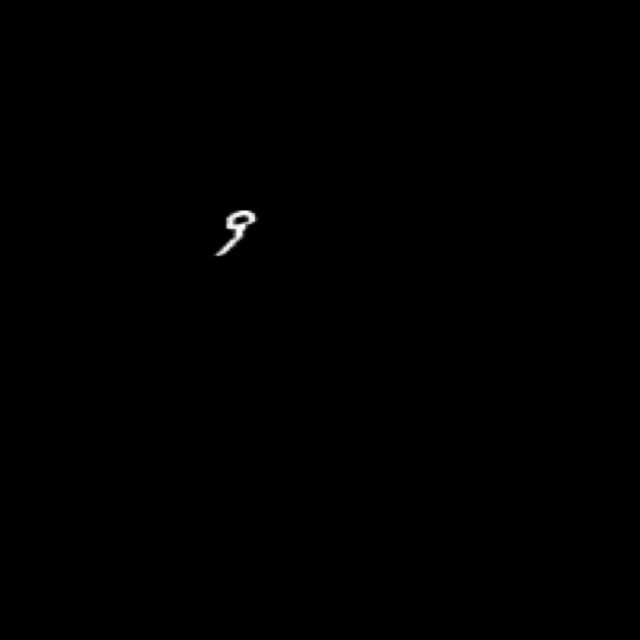nine -9-: (202, 201, 262, 263)
